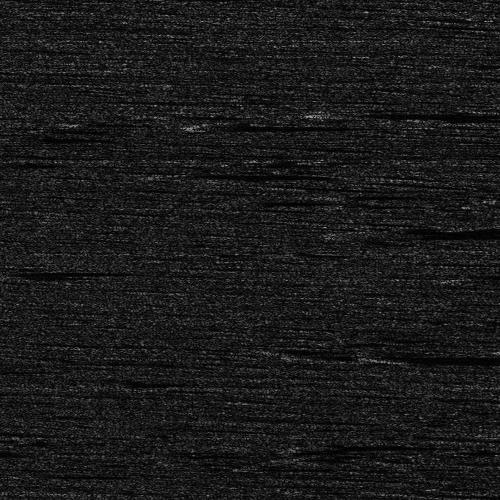object: (250, 105, 385, 116), (427, 274, 490, 281), (291, 443, 344, 448), (0, 267, 18, 278), (135, 172, 176, 175)
shadow: (0, 267, 190, 278), (317, 105, 470, 116), (318, 443, 469, 448), (156, 172, 331, 175), (0, 446, 58, 453), (458, 274, 500, 281)
